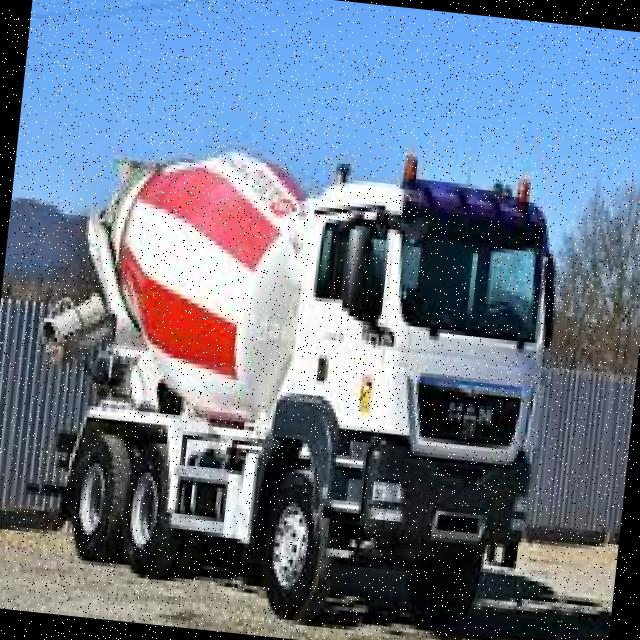Mixer Truck: (12, 116, 573, 640)
